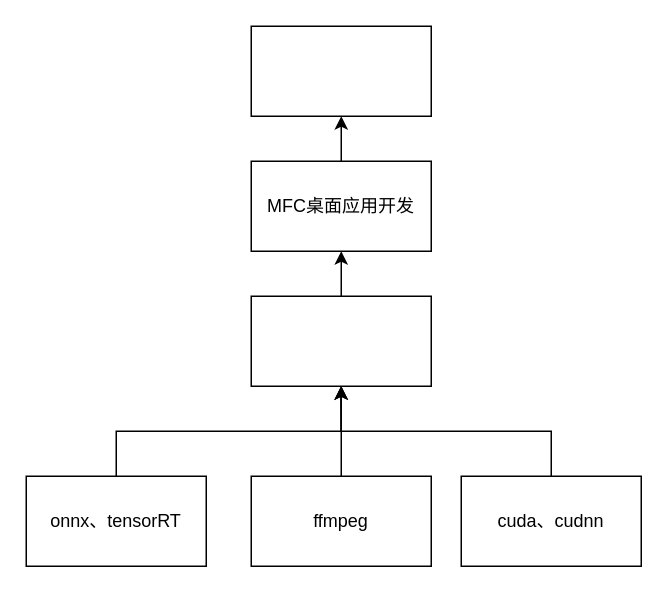
Image size: 668x593. Some labels were removed from this diagram. The shapes that lost their labels are listed below. From the top down, each one's centre as x and y in pixels, then its label:
the point at 340,70: 红外智能抽帧软件
the point at 340,340: window操作系统
